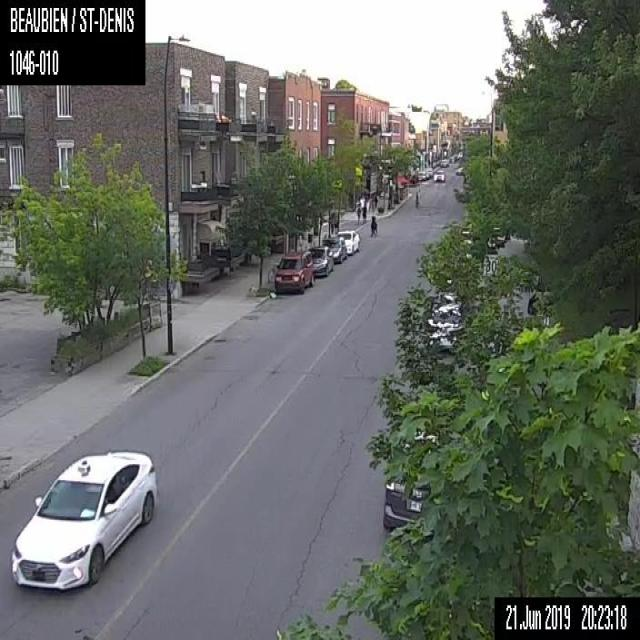cyclist: (414, 190, 418, 206)
pedestrian: (370, 214, 377, 237), (356, 205, 361, 224), (362, 204, 366, 223)
vehicle: (11, 450, 156, 590), (382, 414, 450, 539), (424, 278, 466, 351), (274, 250, 313, 292), (307, 245, 332, 276), (322, 235, 347, 262), (337, 228, 359, 254), (433, 169, 445, 181), (416, 170, 426, 180), (455, 166, 464, 174), (426, 167, 432, 176), (440, 158, 446, 166)
